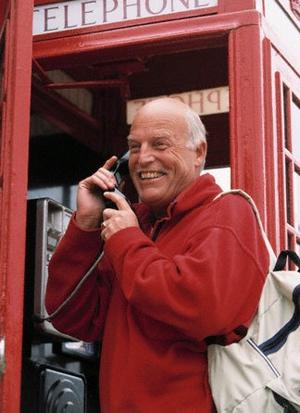person: (47, 96, 269, 413)
